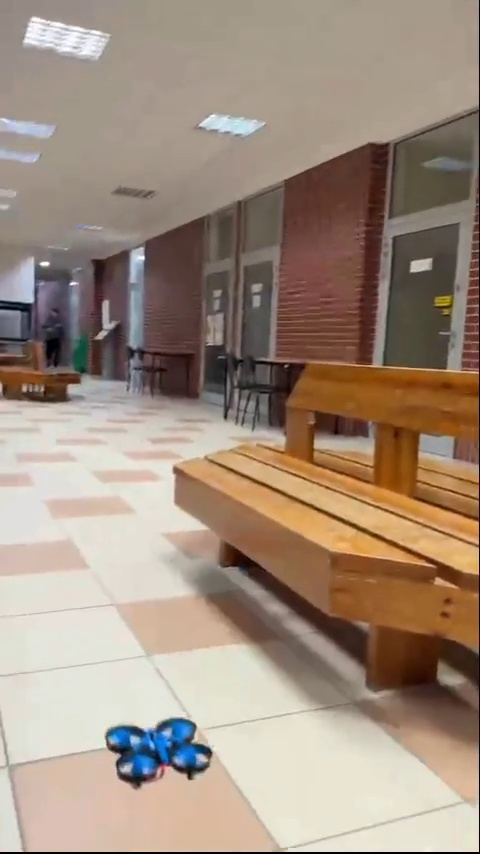drone: (107, 722, 212, 781)
no vest: (38, 300, 77, 372)
